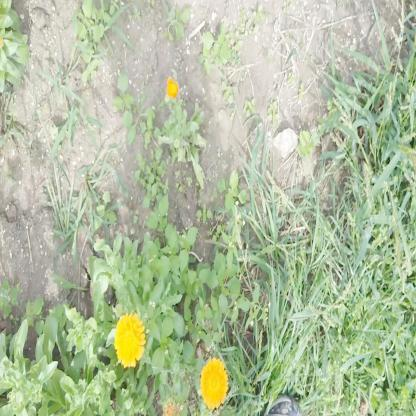marigold: (114, 312, 144, 364), (202, 356, 228, 406)
